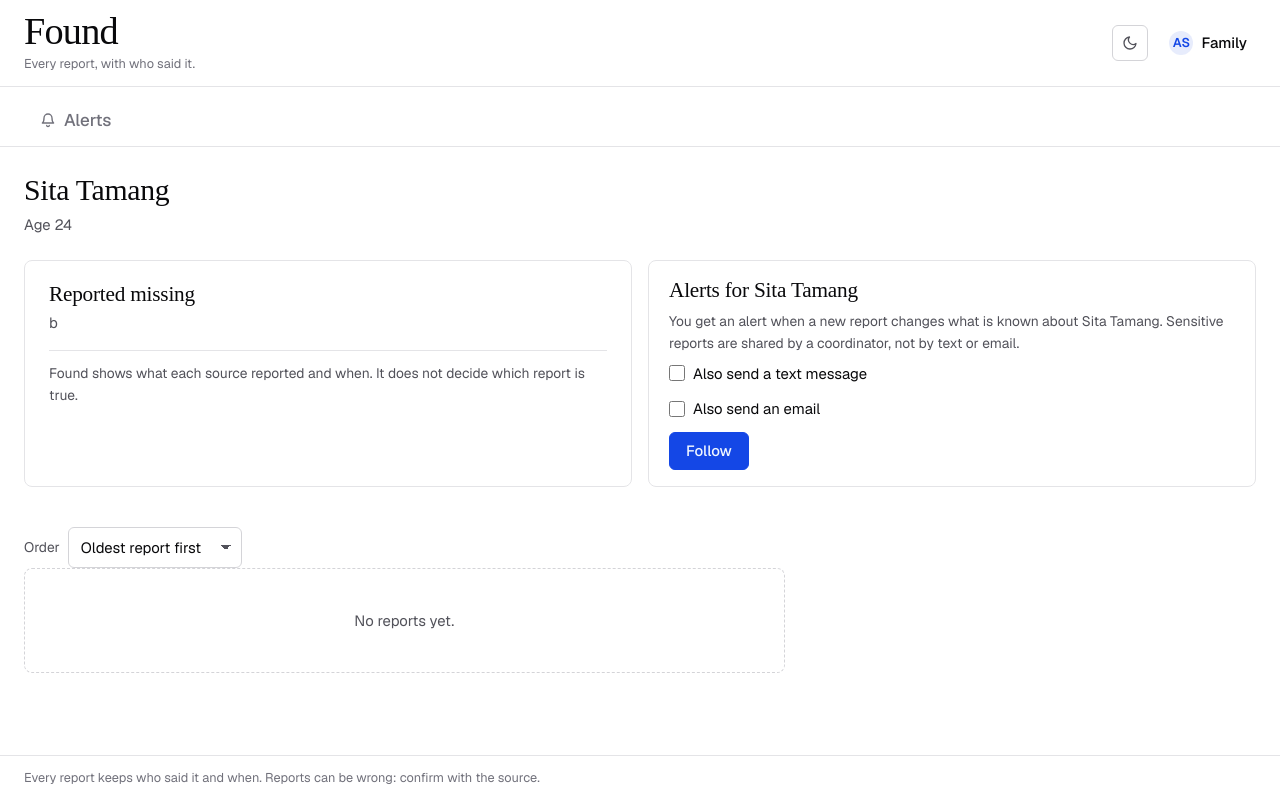
follow panel › shows the API's reason when following fails
Click the button "Follow".
click(709, 451)  # box [669, 432, 749, 470]
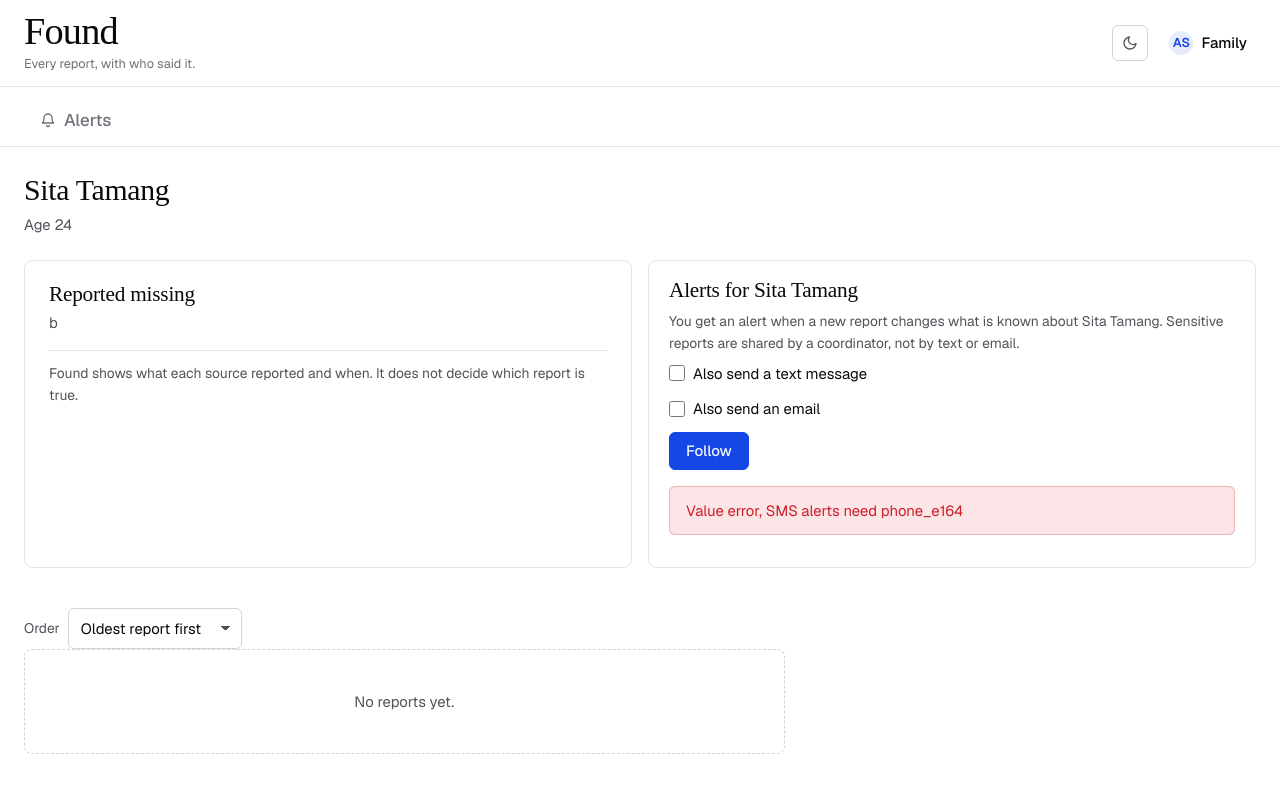
Check: the message shows "SMS alerts need phone_e164", box [686, 501, 963, 520]
